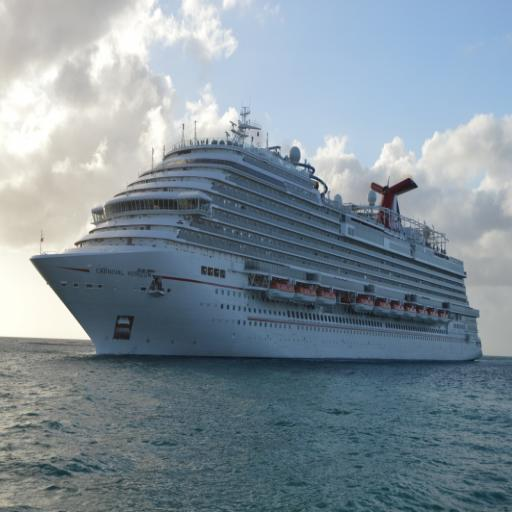cruises: (26, 81, 500, 387)
